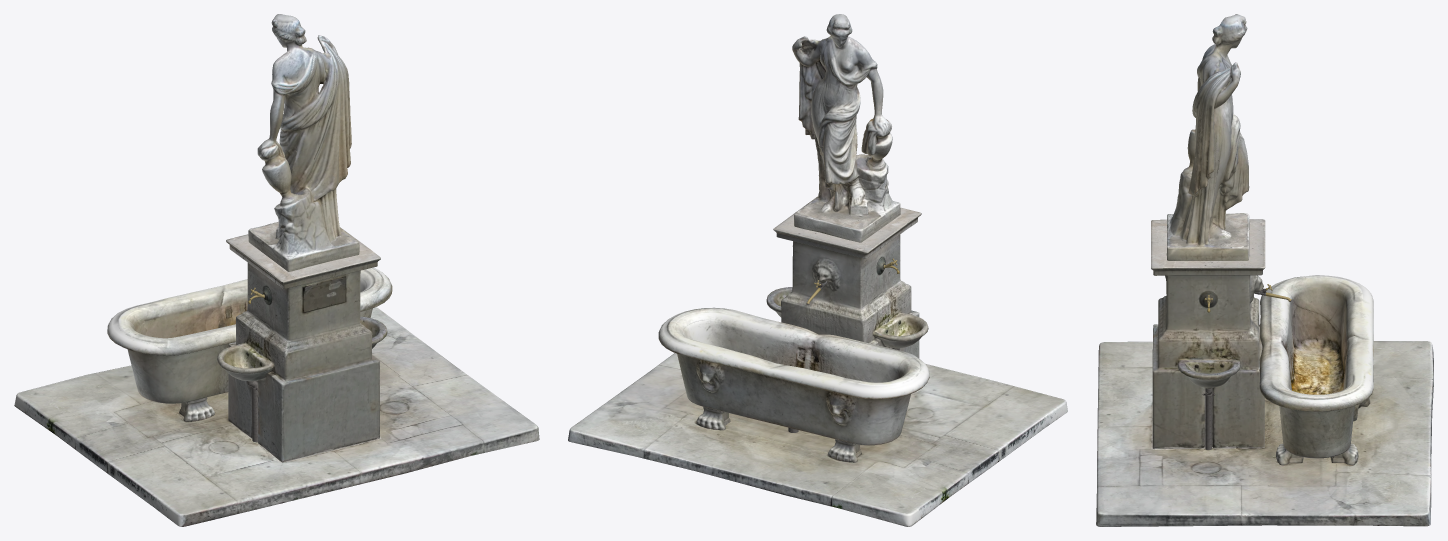
Rendered from sf-naiade-fountain-statue-lucca-7df483.glb.
3 views of the same model, side by side, from view 1: azimuth 30°, elevation 25°; view 2: azimuth 150°, elevation 25°; view 3: azimuth 270°, elevation 25° (orthographic). The views are drawn at different scales.
Visible parts, largest first — view 1: Object_3; view 2: Object_3; view 3: Object_3.
Part boxes in pixels (box(x1,y1,x2,y2)): Object_3: box(14, 14, 539, 526); Object_3: box(568, 14, 1067, 526); Object_3: box(1096, 14, 1433, 526).
Bounding box in the file's own units: 2.93 × 3.26 × 2.37.
Materials: 1 (1 with a texture image).
